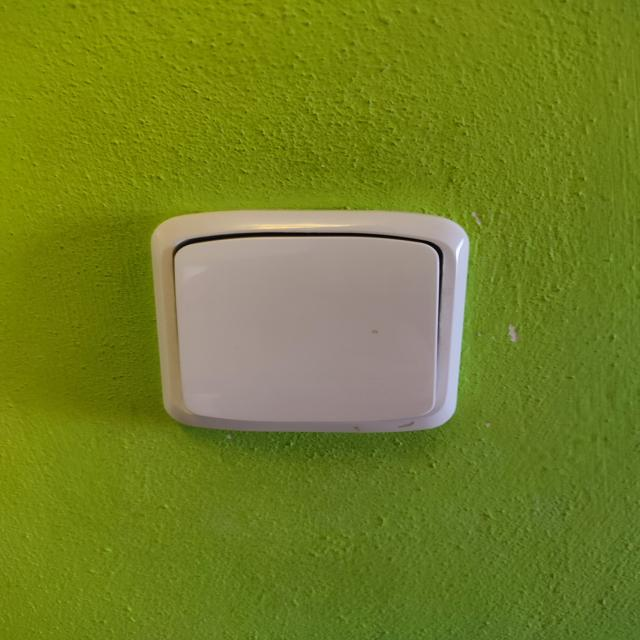house switch: (150, 209, 470, 433)
